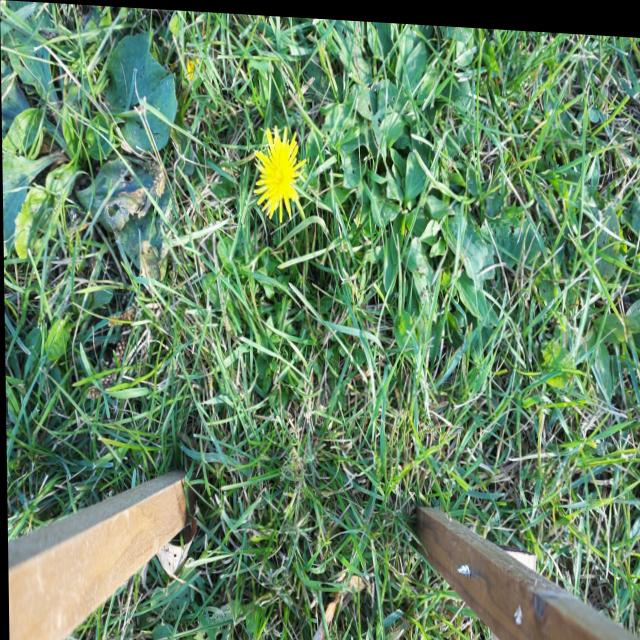base: (294, 252, 312, 285)
flower: (255, 129, 301, 211)
